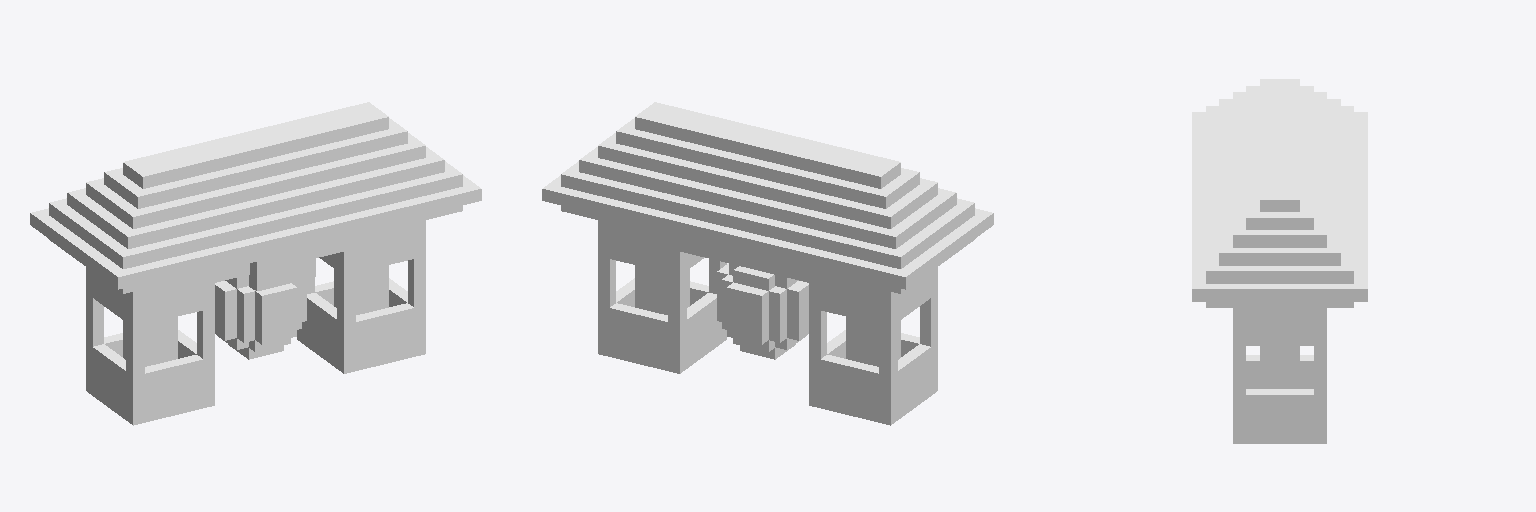
The model's file is kaminarimon.obj.
3 renders of one model, left to right at view 1: azimuth 30°, elevation 25°; view 2: azimuth 150°, elevation 25°; view 3: azimuth 270°, elevation 25°, orthographic.
Parts seen in each view (by area): view 1: object 1; view 2: object 1; view 3: object 1.
Boxes of the visible parts, x1=… form: object 1: x1=30, y1=102, x2=481, y2=425; object 1: x1=542, y1=102, x2=993, y2=425; object 1: x1=1192, y1=79, x2=1367, y2=443.
Bounding box in the file's own units: 6.2 × 3.8 × 2.6.